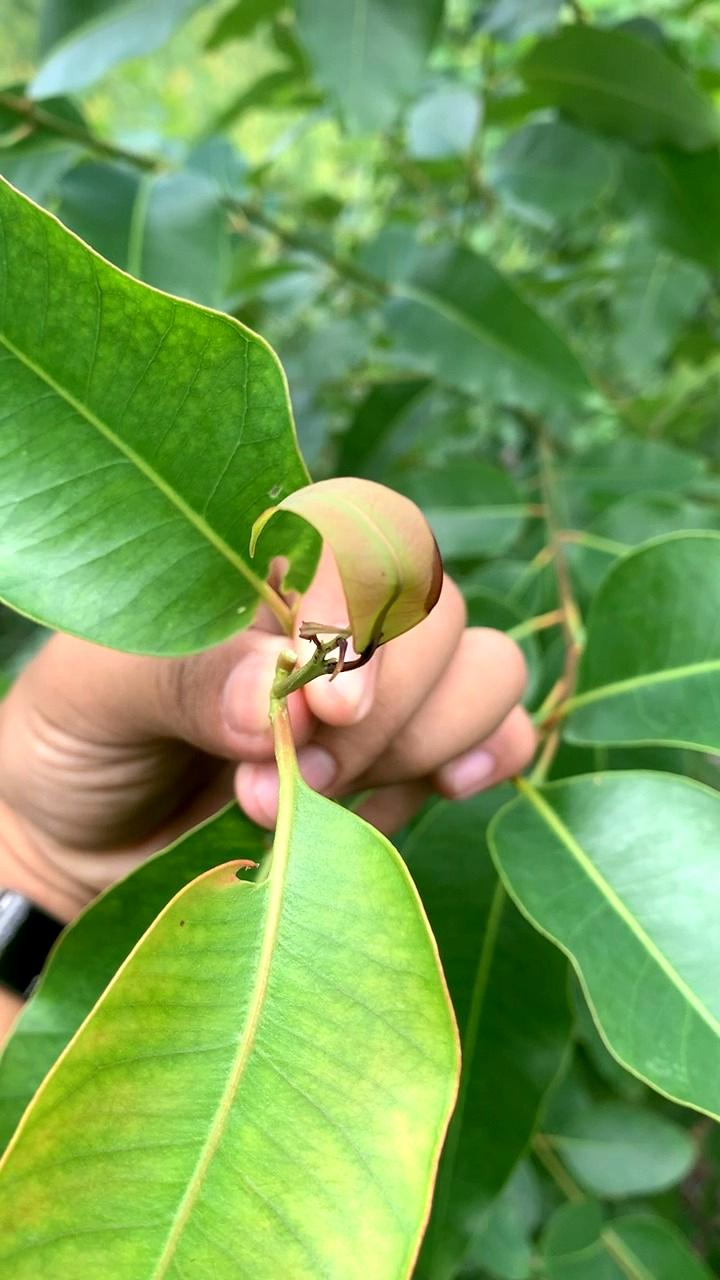Helopeltis-Withered Sprout: (228, 460, 469, 689)
